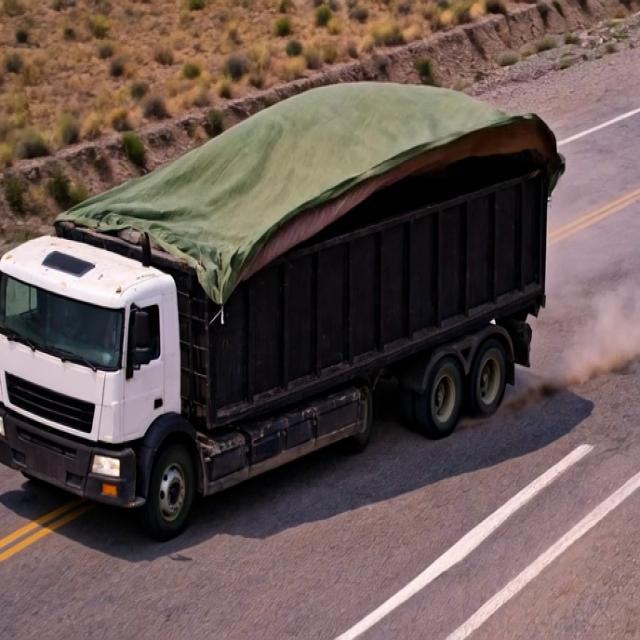trailer: (58, 74, 574, 284)
truck: (2, 55, 585, 534)
